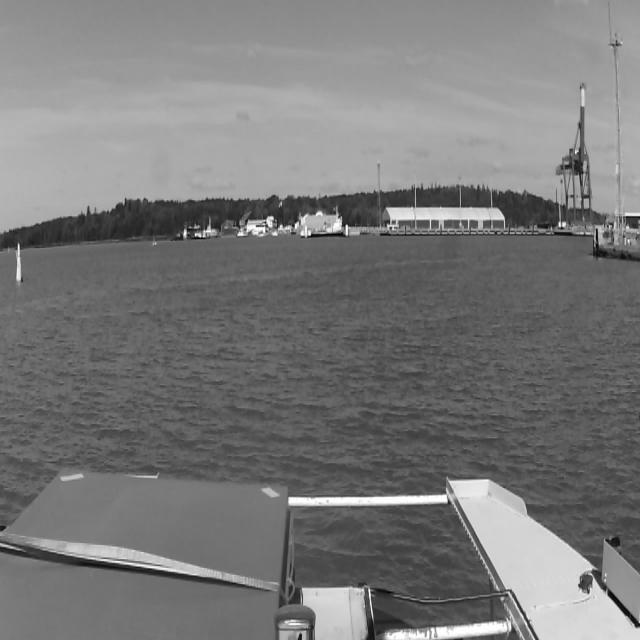buoy: (16, 242, 23, 282), (148, 232, 156, 244)
